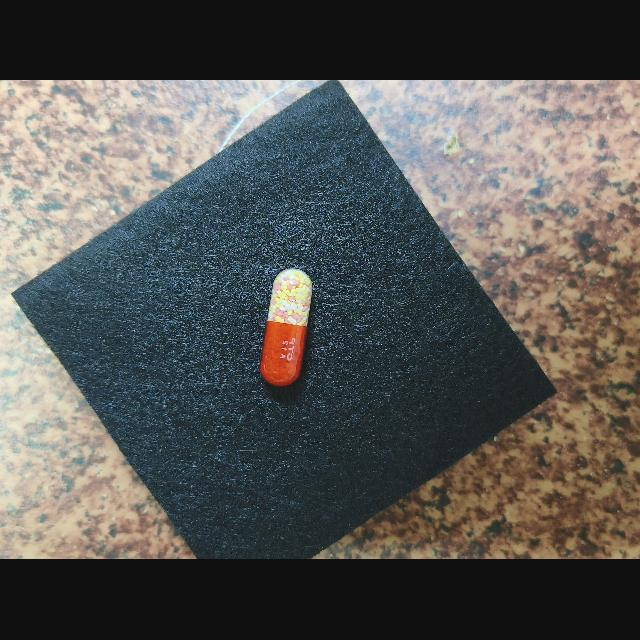Intact Capsule: (260, 269, 312, 387)
